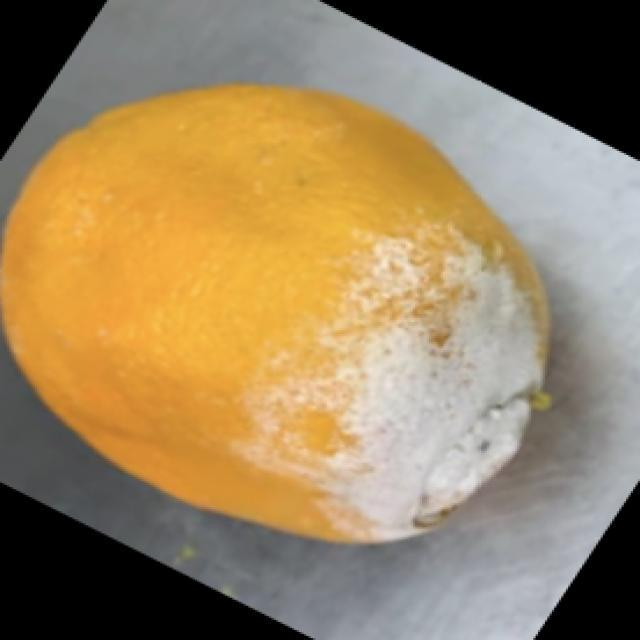sedikit-busuk: (0, 85, 548, 541), (283, 253, 548, 541)
